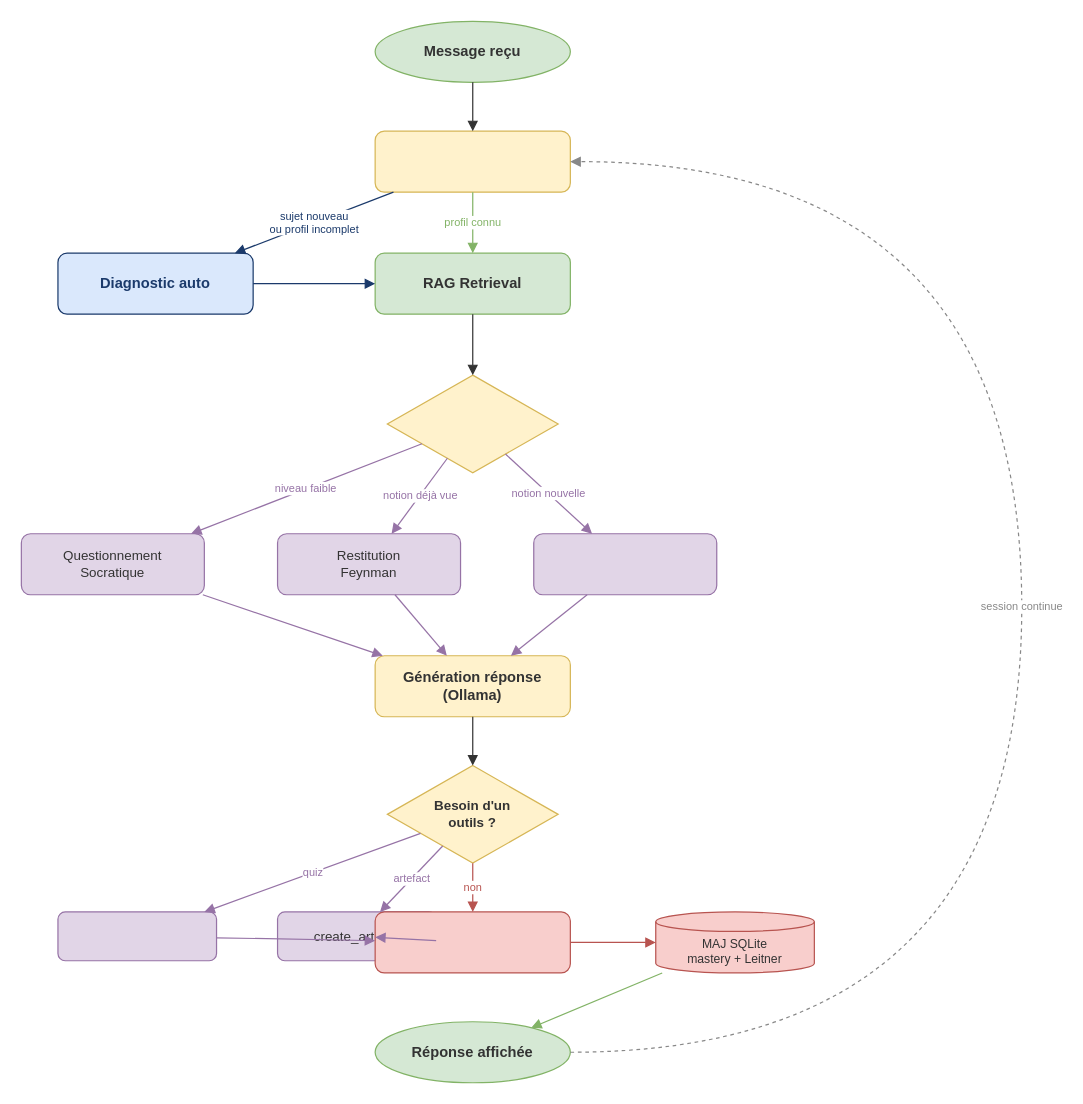
This 1083x1104 diagram has some shape labels left out. The shapes that lost their labels are listed below. From the top down, each one's centre as x and y in pixels, then its label:
point (472, 161): Router & Profil Apprenant
point (472, 423): Choix de la méthode
point (625, 564): Explication pas-à-pas
point (137, 936): generate_quiz
point (472, 942): Évaluation & Mémoire
